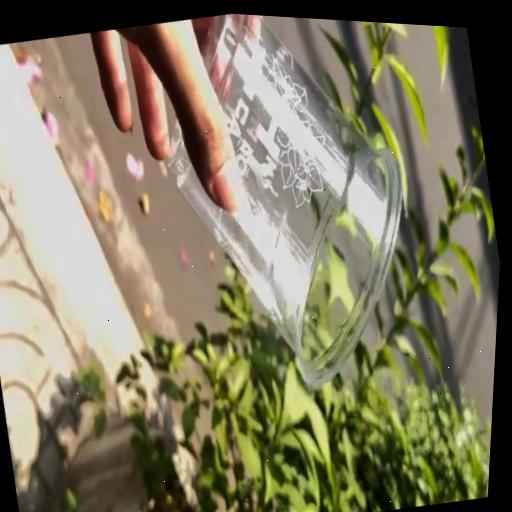ly_giay: (170, 14, 401, 383)
